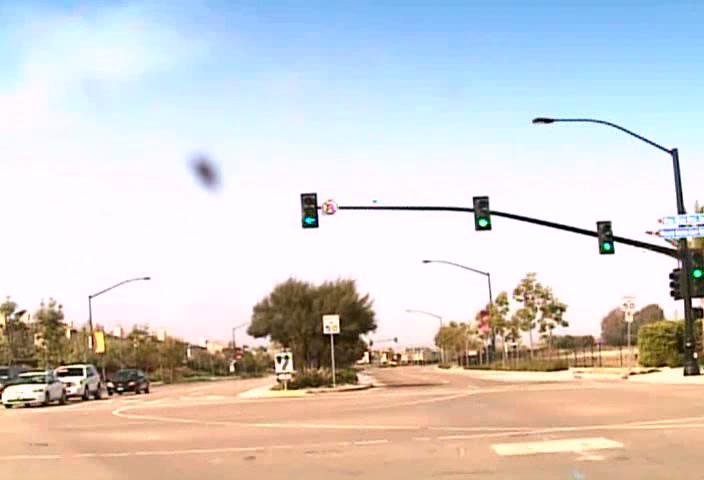speedLimit50: (322, 314, 340, 334)
